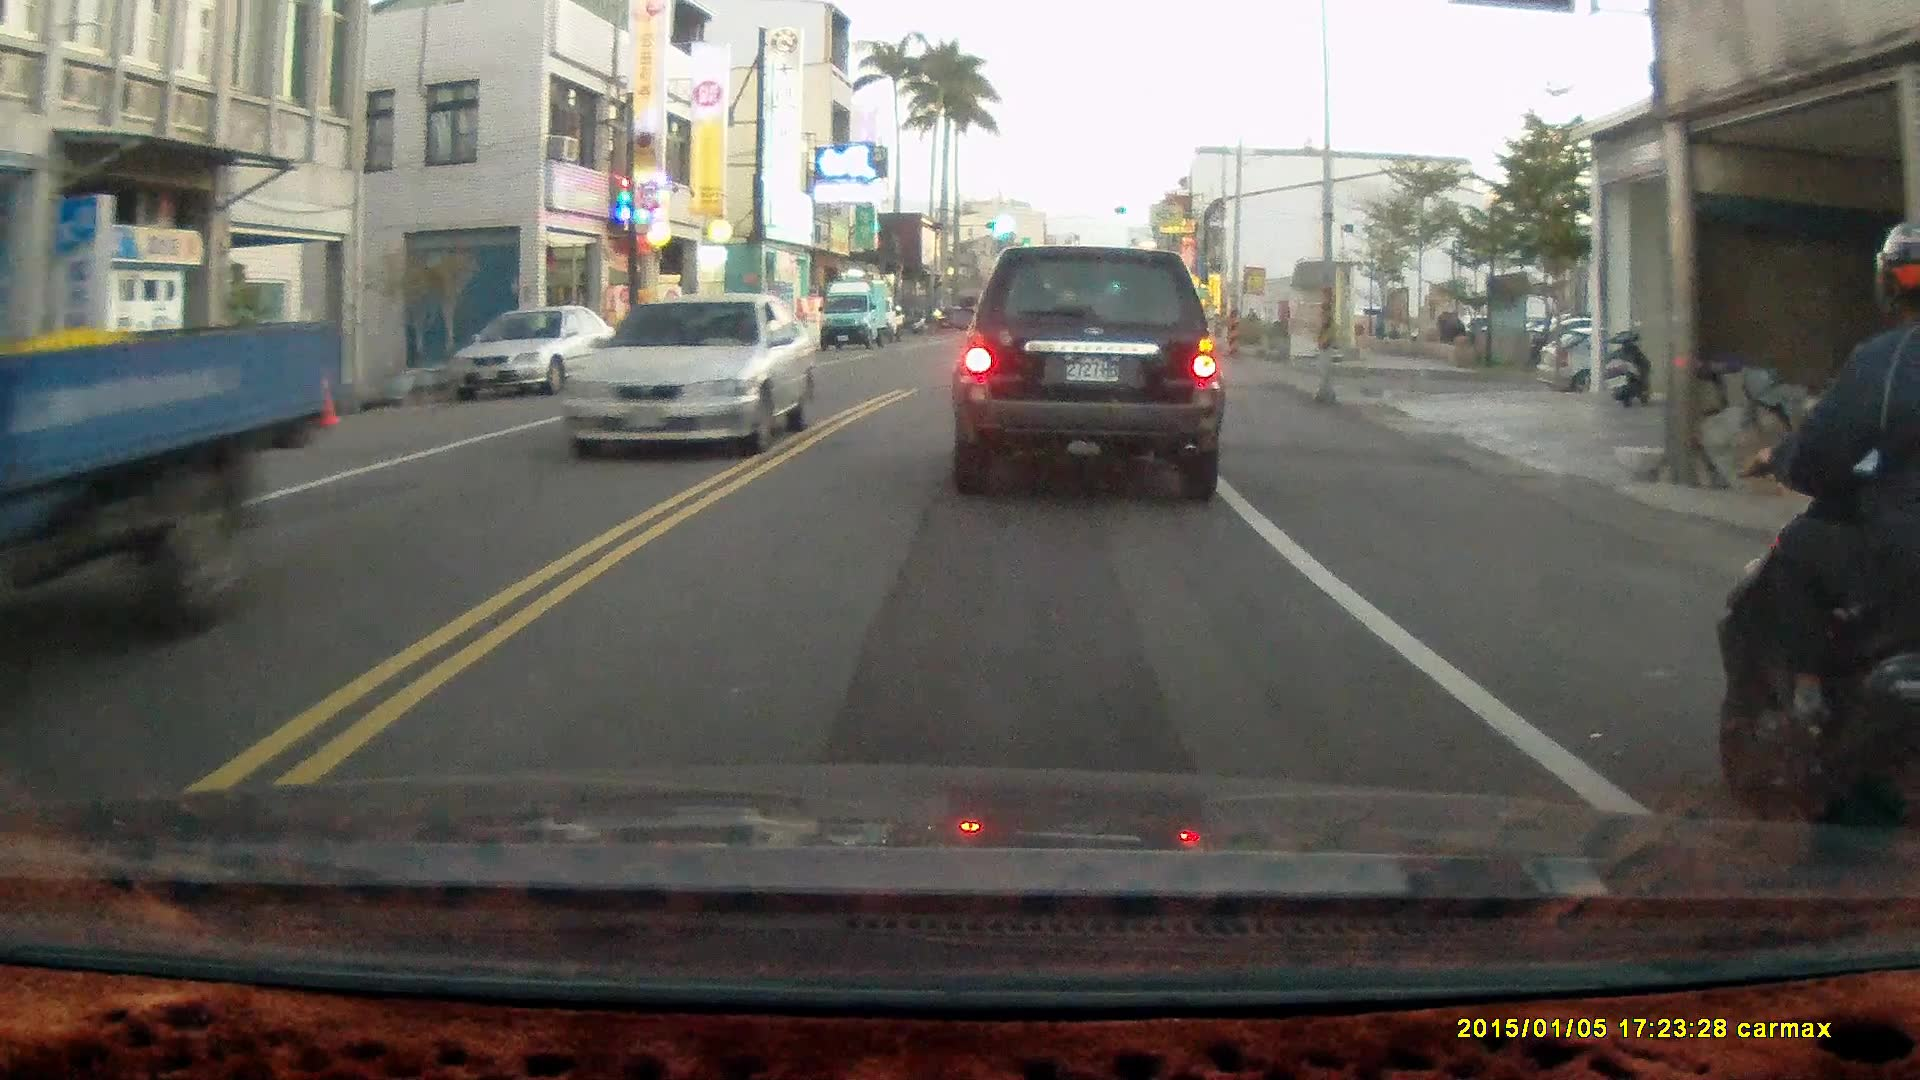rider: (1711, 212, 1920, 896)
vehicle: (1, 274, 345, 670), (950, 241, 1228, 498), (559, 288, 815, 464), (442, 306, 621, 399), (1532, 327, 1737, 404), (820, 279, 897, 353)
